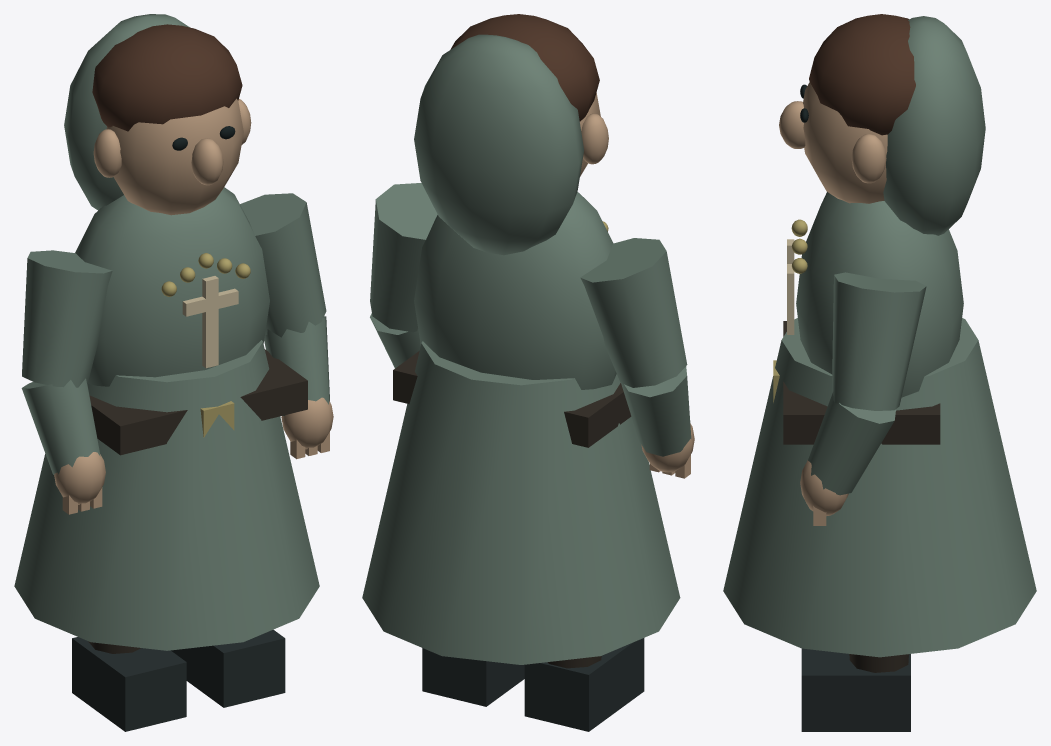
File: healer.glb
3 renders of one model, left to right at view 1: azimuth 30°, elevation 25°; view 2: azimuth 150°, elevation 25°; view 3: azimuth 270°, elevation 25°, orthographic. The views are drawn at different scales.
Visible parts, largest first — view 1: body, head, armL, armR, legL, legR, hood; view 2: body, hood, armL, armR, legL, head, legR; view 3: body, armR, head, hood, legR.
Boxes of the visible parts, x1,y1,x2,y2 form: body: [14, 187, 319, 650]; head: [92, 24, 251, 215]; armL: [21, 250, 112, 514]; armR: [240, 193, 333, 459]; legL: [72, 637, 186, 731]; legR: [171, 629, 285, 707]; hood: [64, 14, 189, 210]; body: [362, 192, 680, 664]; hood: [414, 34, 583, 255]; armL: [580, 238, 694, 478]; armR: [370, 183, 437, 368]; legL: [524, 638, 644, 731]; head: [450, 14, 608, 176]; legR: [422, 648, 524, 706]; body: [723, 192, 1036, 657]; armR: [800, 272, 926, 525]; head: [779, 14, 915, 203]; hood: [883, 16, 985, 235]; legR: [801, 648, 910, 731].
Size of the model in its own units: 0.9655 by 2.02 by 0.86.
